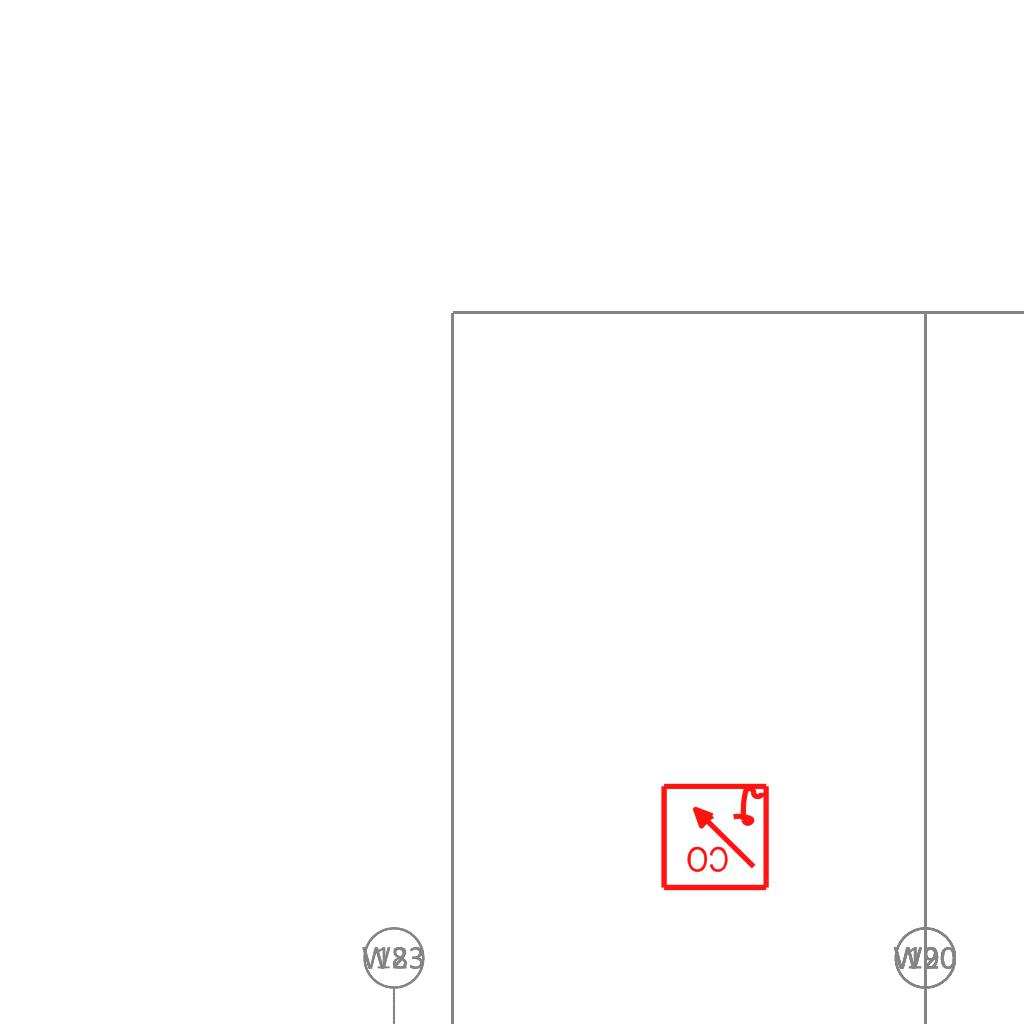ROA_Rauchmelder_optisch_mit_Signalgeber_(Sockelsirene): (658, 779, 771, 892)
